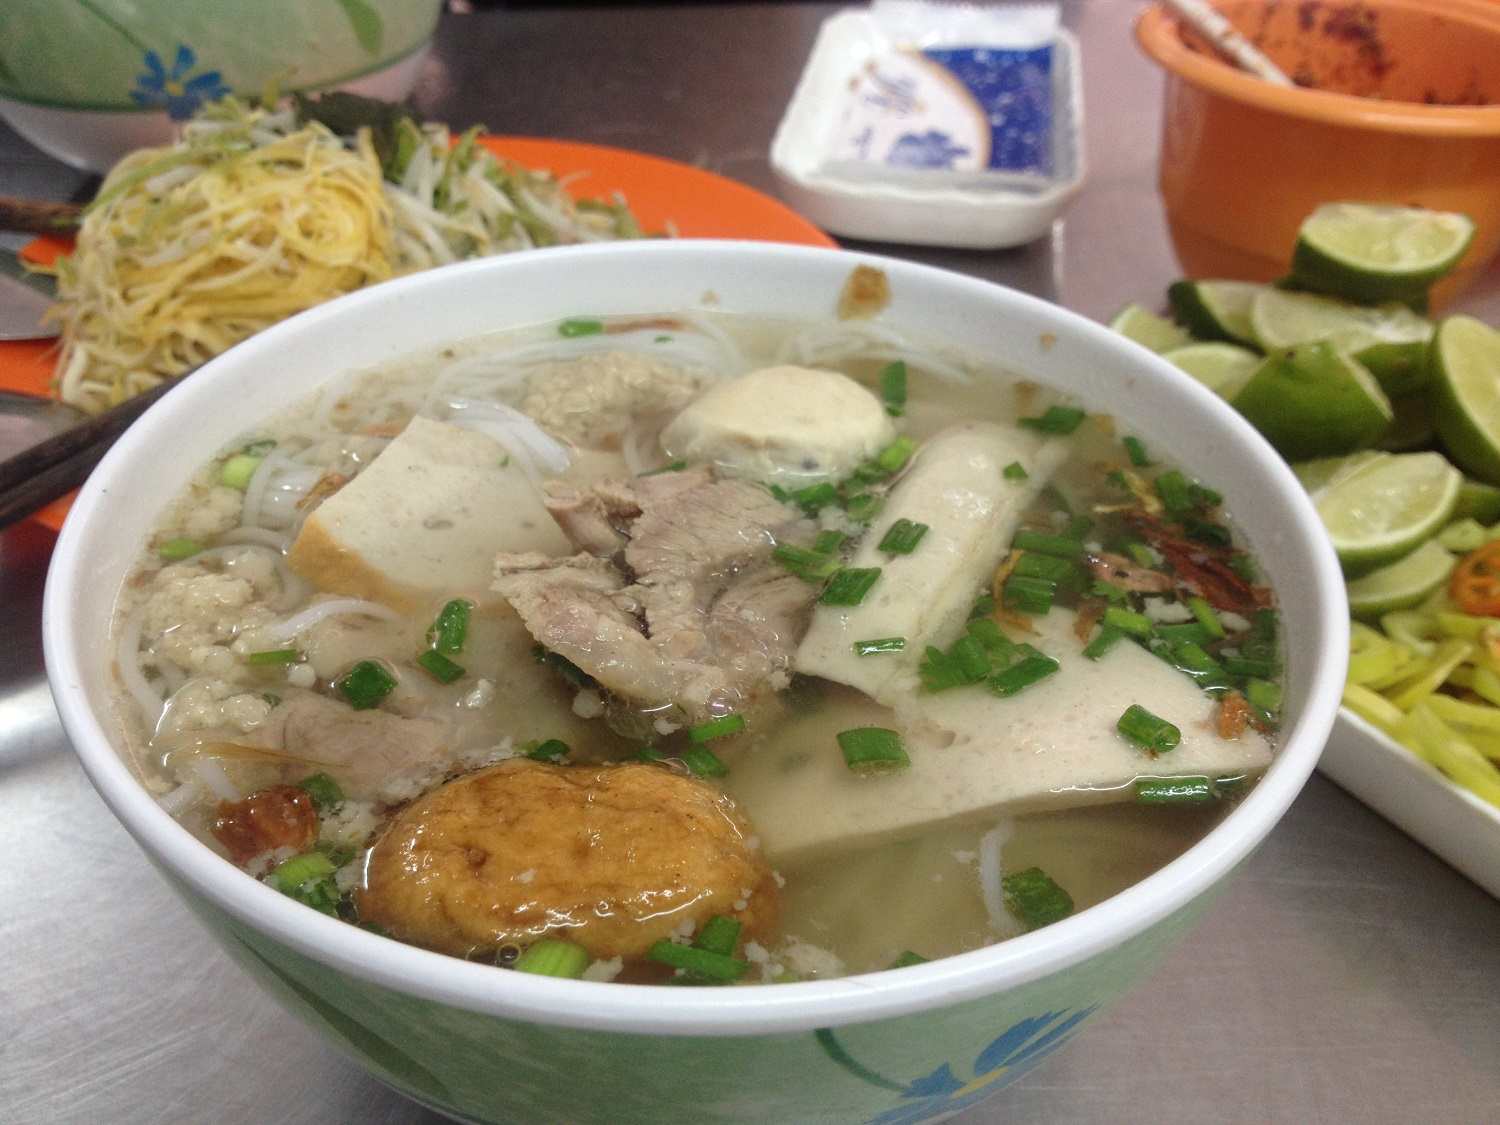chamoc: (741, 618, 1256, 843), (313, 410, 520, 605)
pork: (516, 459, 824, 713)
